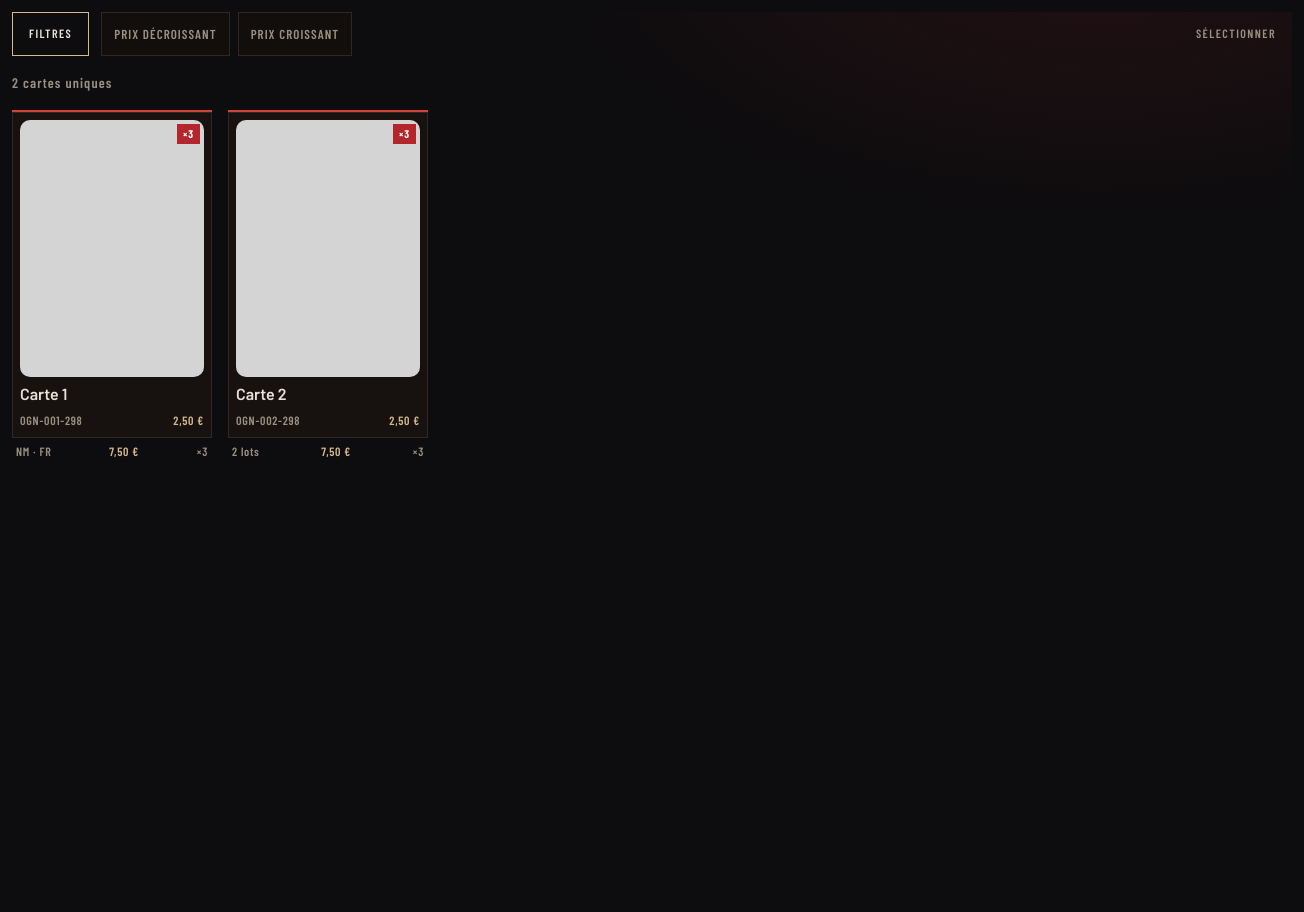
Scenario: CollectionInventory › opération de masse en échec : erreur affichée, sélection conservée, bouton réactivé
Step 1. Click the button "Sélectionner" → (1236, 34), box [1180,12,1292,56]
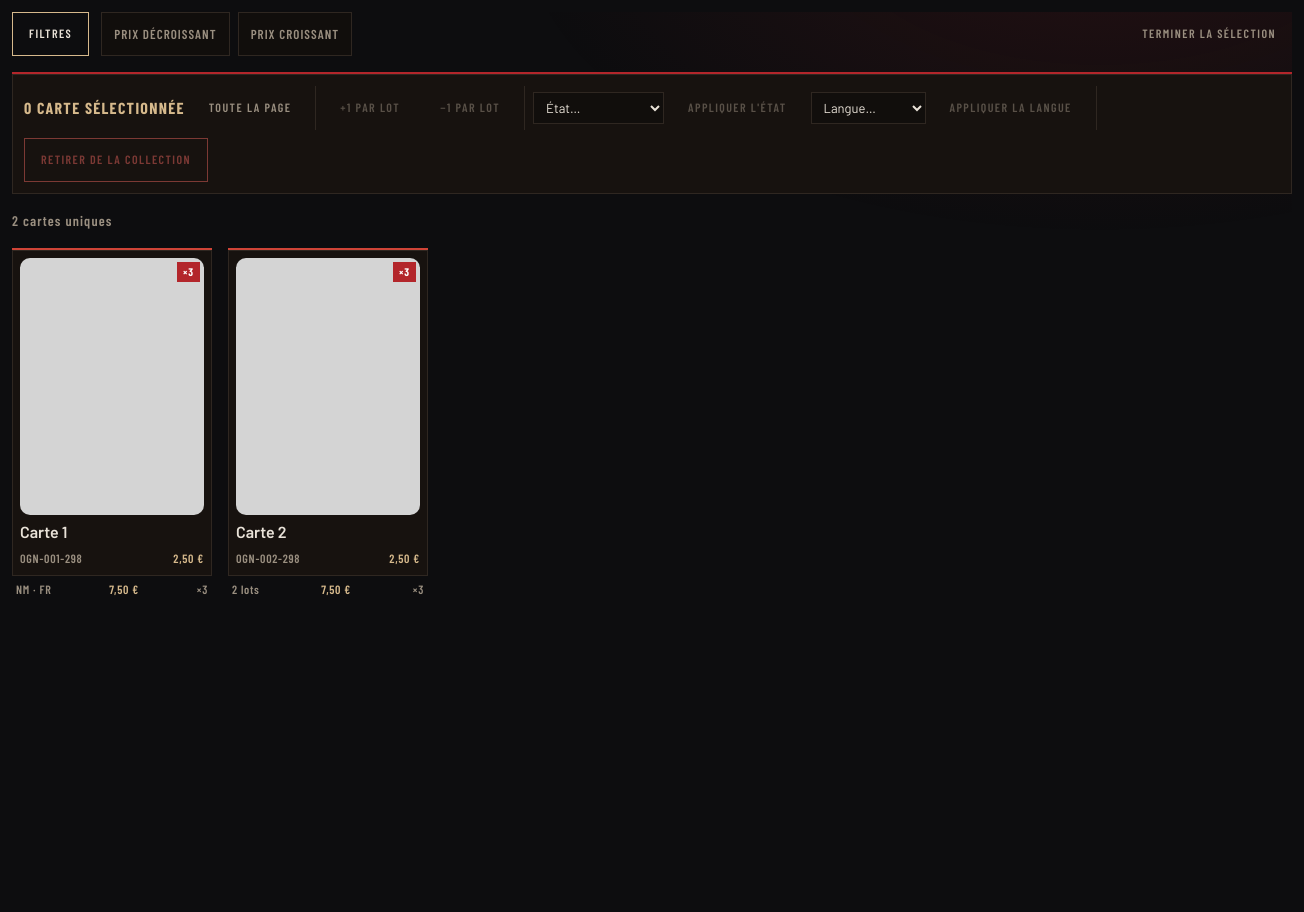
Step 2. Click the button with class "inventaire-pick" showing "×3 Carte 1 OGN-001-298 2,50 €" → (112, 412), box [12,248,212,576]
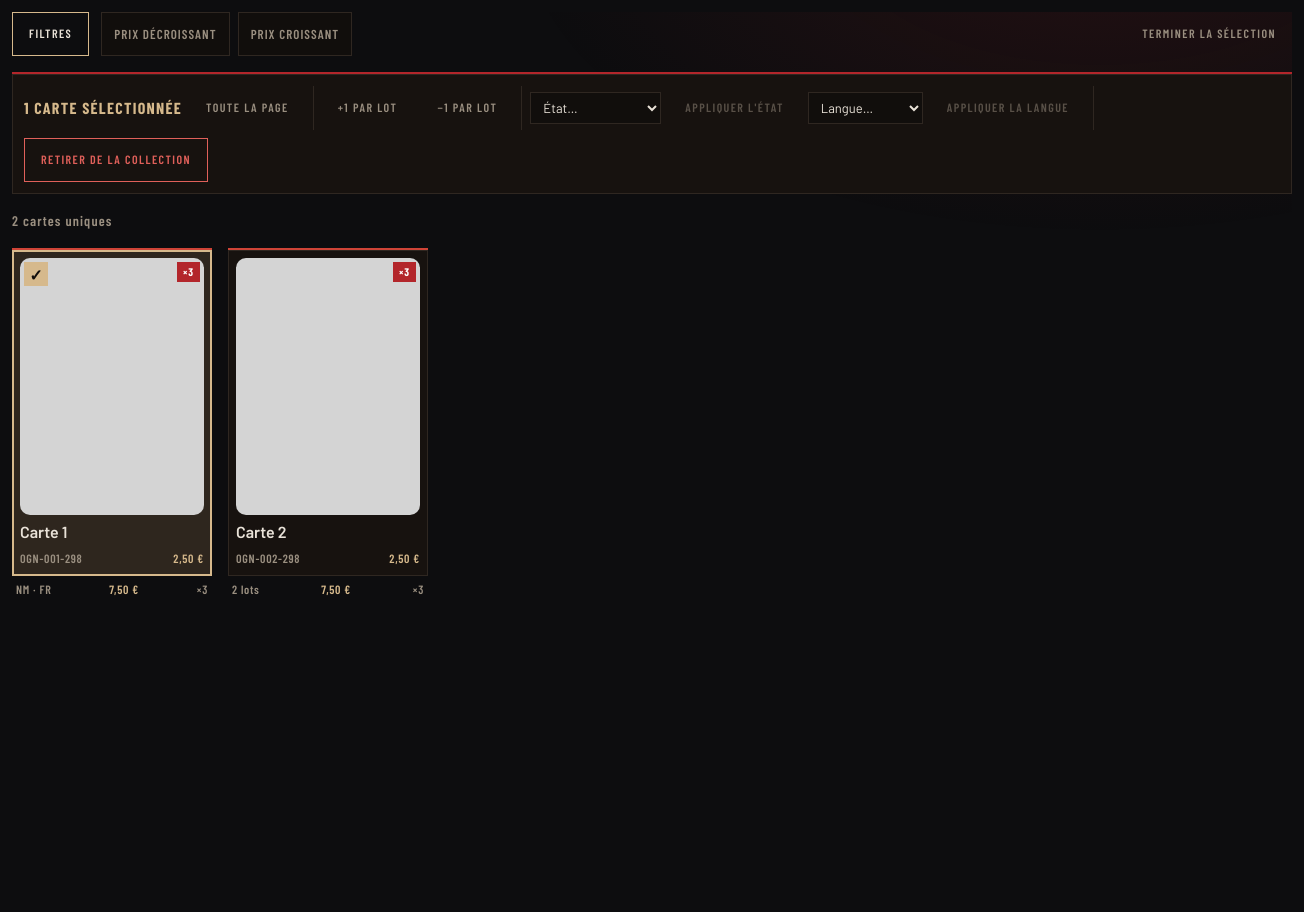
Step 3. Click the button "+1 par lot" → (368, 108), box [322,86,414,130]
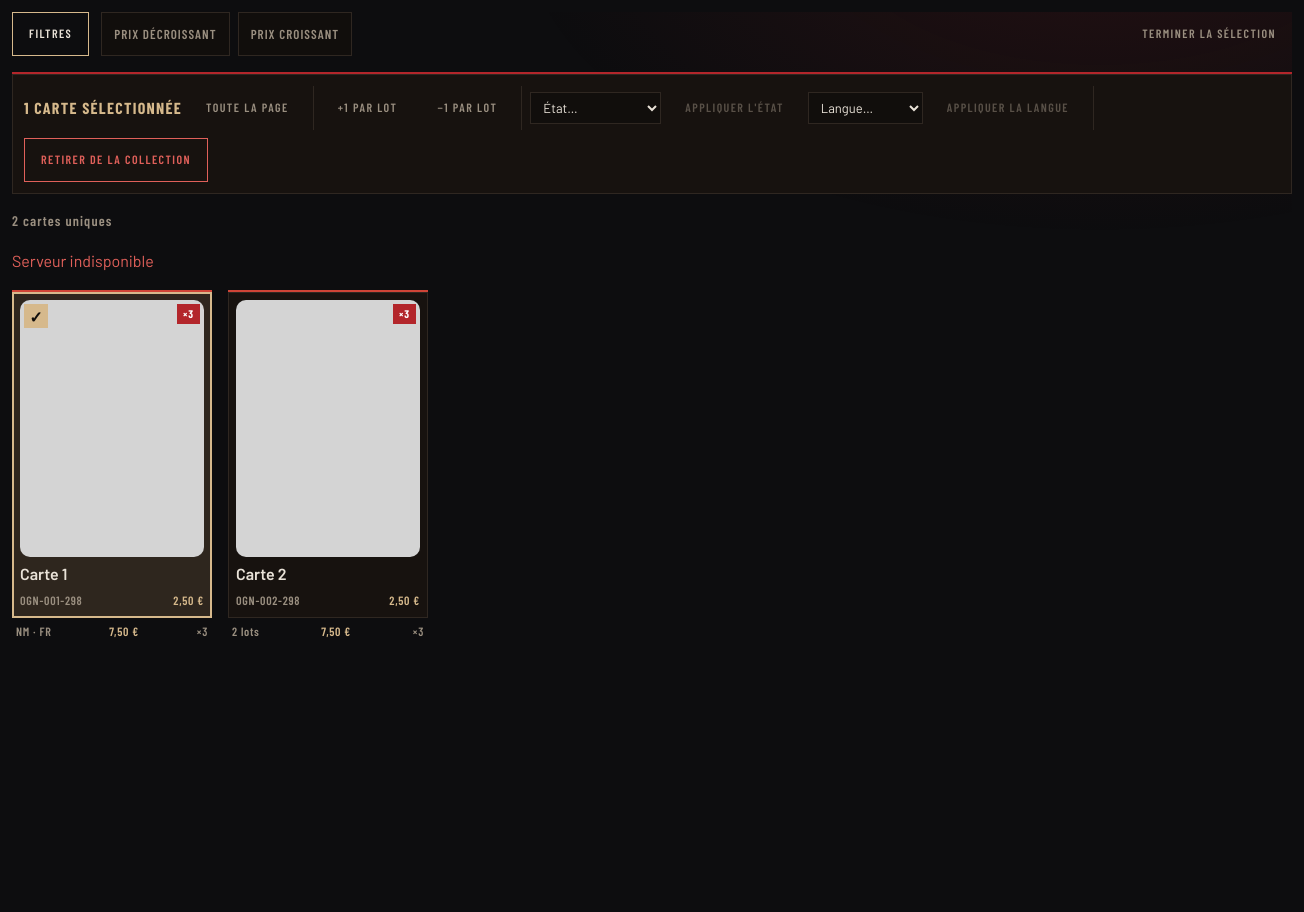
Now the button "+1 par lot" is enabled, box [322,86,414,130]
Now the message with class "inventaire-error" reads "Serveur indisponible", box [12,251,154,270]
